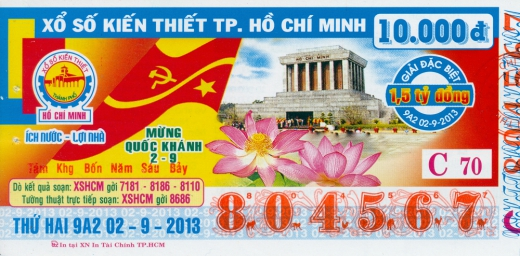serial_zone: (208, 188, 499, 238)
